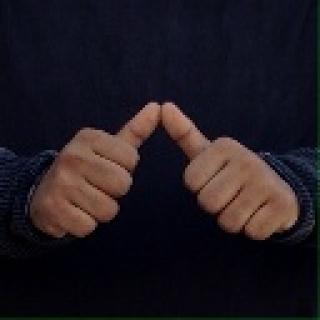A: (33, 97, 298, 255)
